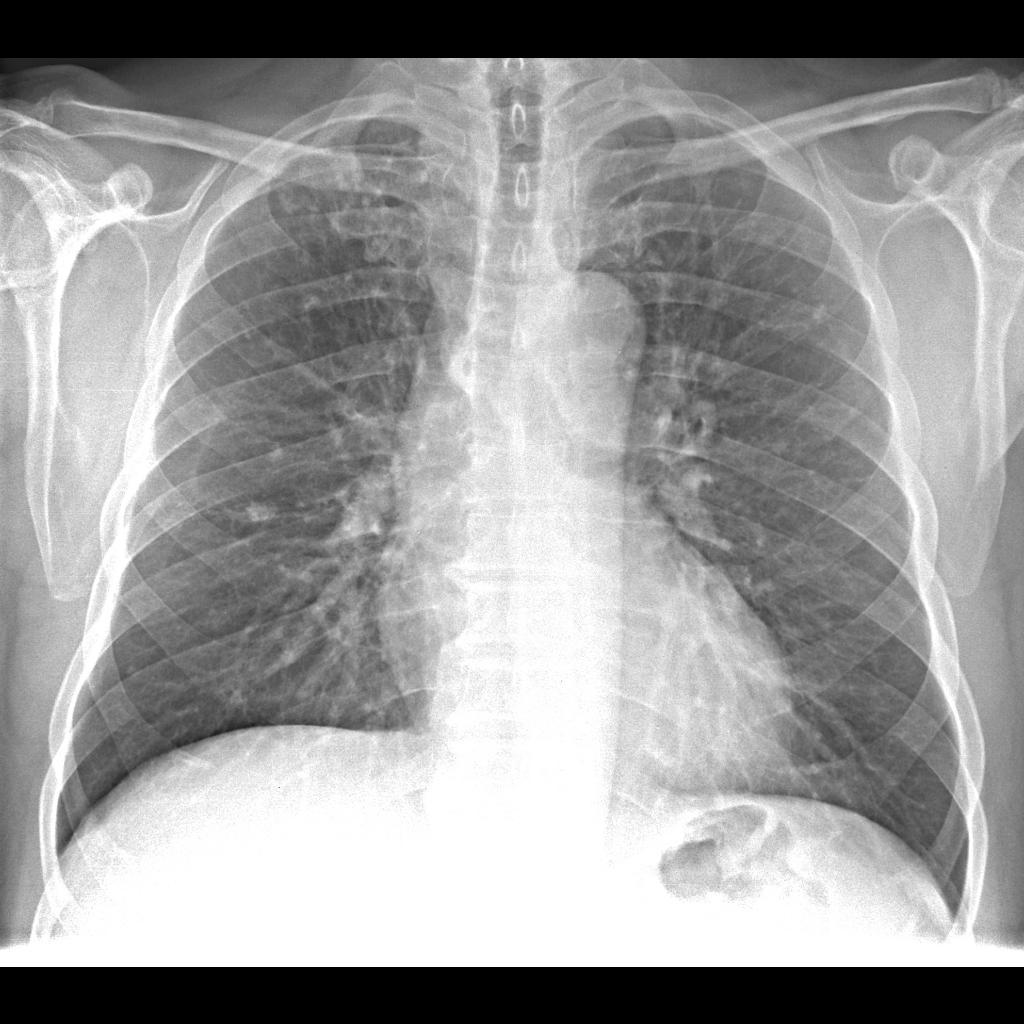Nodule: (245, 492, 283, 533)
